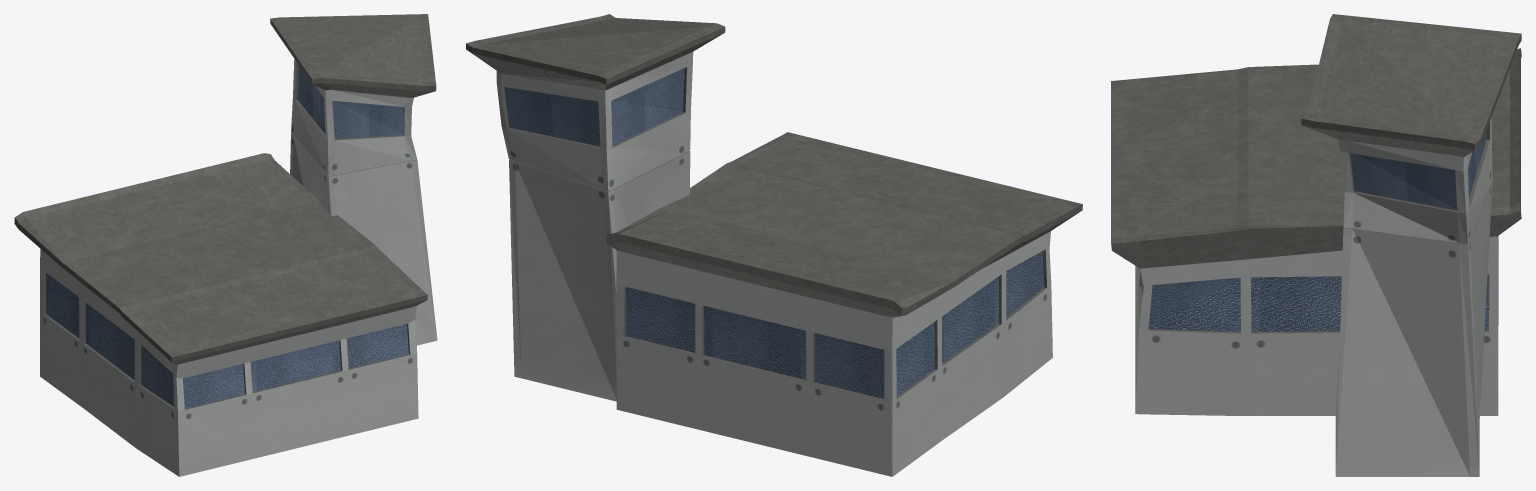
File: Escritório Destruído.fbx
The picture shows the model from 3 angles, left to right: view 1: azimuth 30°, elevation 25°; view 2: azimuth 150°, elevation 25°; view 3: azimuth 270°, elevation 25°; orthographic projection. The views are drawn at different scales.
Parts seen in each view (by area): view 1: Princiapl3, Torre1; view 2: Princiapl3, Torre1; view 3: Princiapl3, Torre1.
Boxes of the visible parts, bbox=[...] form: Princiapl3: bbox=[14, 153, 427, 476]; Torre1: bbox=[270, 14, 437, 345]; Princiapl3: bbox=[606, 132, 1082, 476]; Torre1: bbox=[466, 14, 725, 401]; Princiapl3: bbox=[1111, 48, 1521, 415]; Torre1: bbox=[1301, 14, 1521, 476].
Size of the model in its own units: 82.66 by 58.86 by 56.99.
